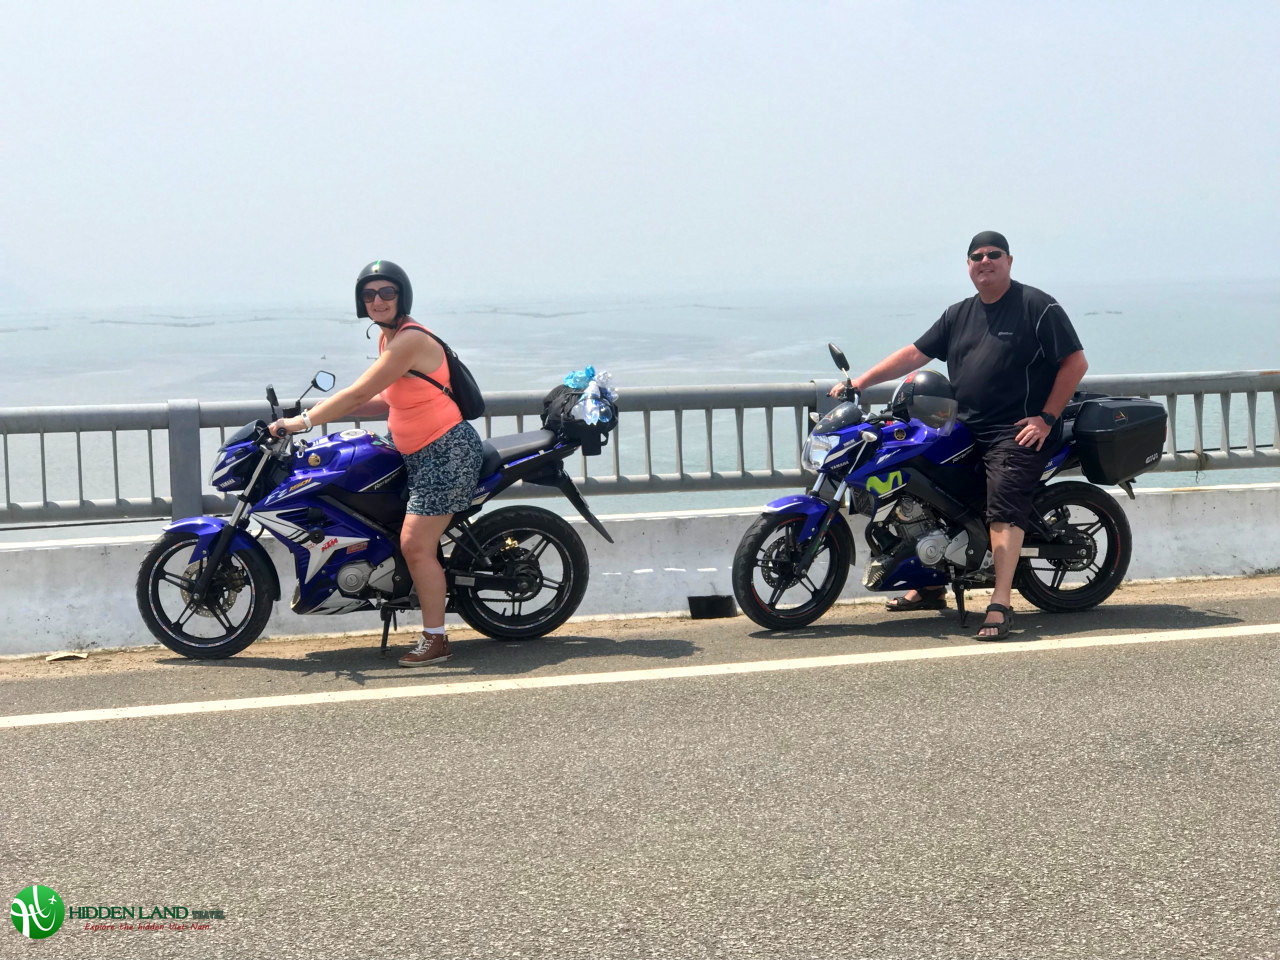motorbike: (131, 361, 687, 708), (720, 353, 1202, 667)
